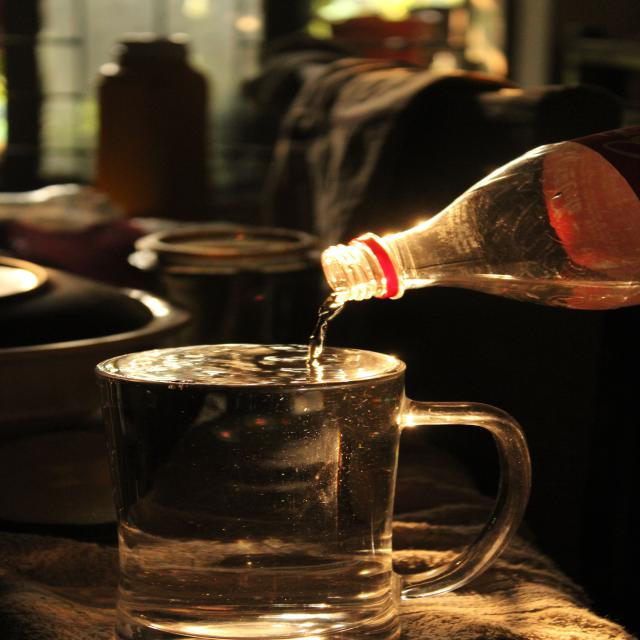Bottle: (322, 126, 639, 309), (96, 35, 208, 220)
